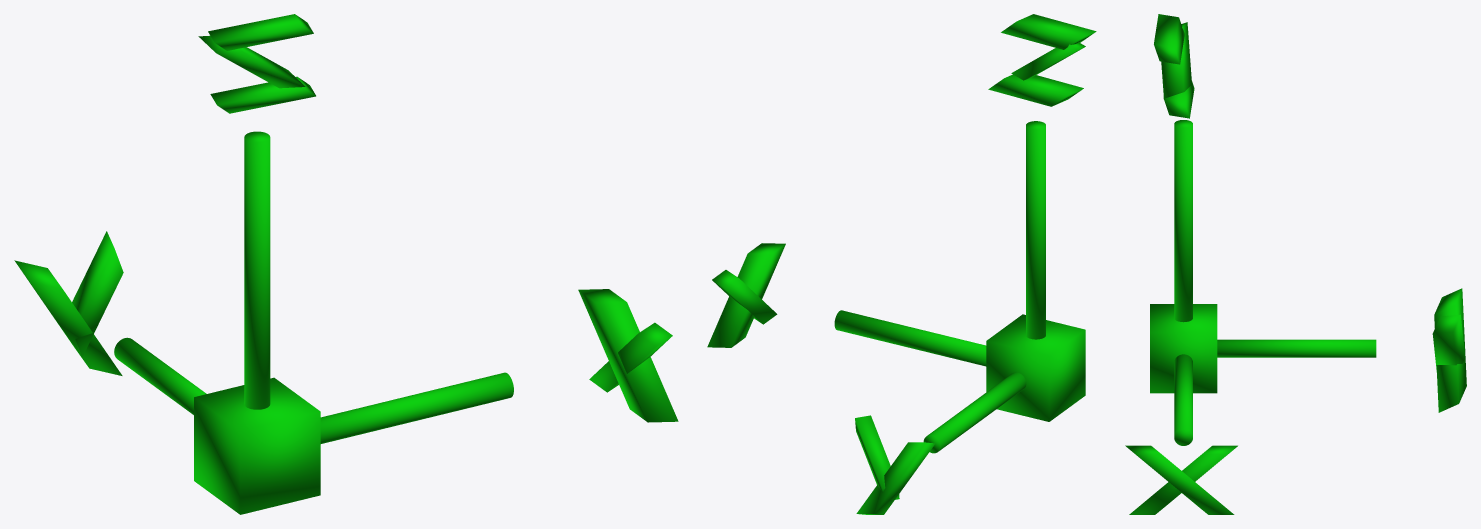
File: XYZ.obj
3 views of the same model, side by side, from view 1: azimuth 30°, elevation 25°; view 2: azimuth 150°, elevation 25°; view 3: azimuth 270°, elevation 25° (orthographic). The views are drawn at different scales.
Parts seen in each view (by area): view 1: Cube.001; view 2: Cube.001; view 3: Cube.001.
Part boxes in pixels (box(x1,y1,x2,y2)): Cube.001: box(14, 14, 678, 514); Cube.001: box(707, 14, 1096, 514); Cube.001: box(1125, 14, 1466, 514).
Size of the model in its own units: 1.27 by 1.37 by 1.17.
